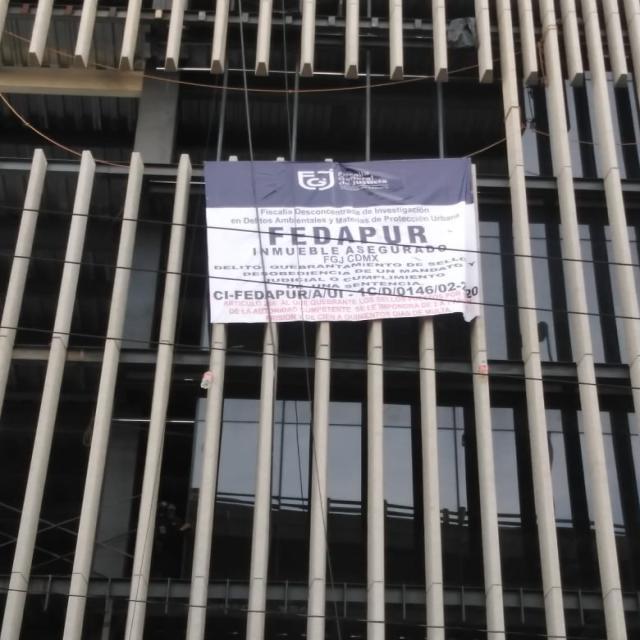stamps: (207, 165, 476, 328)
